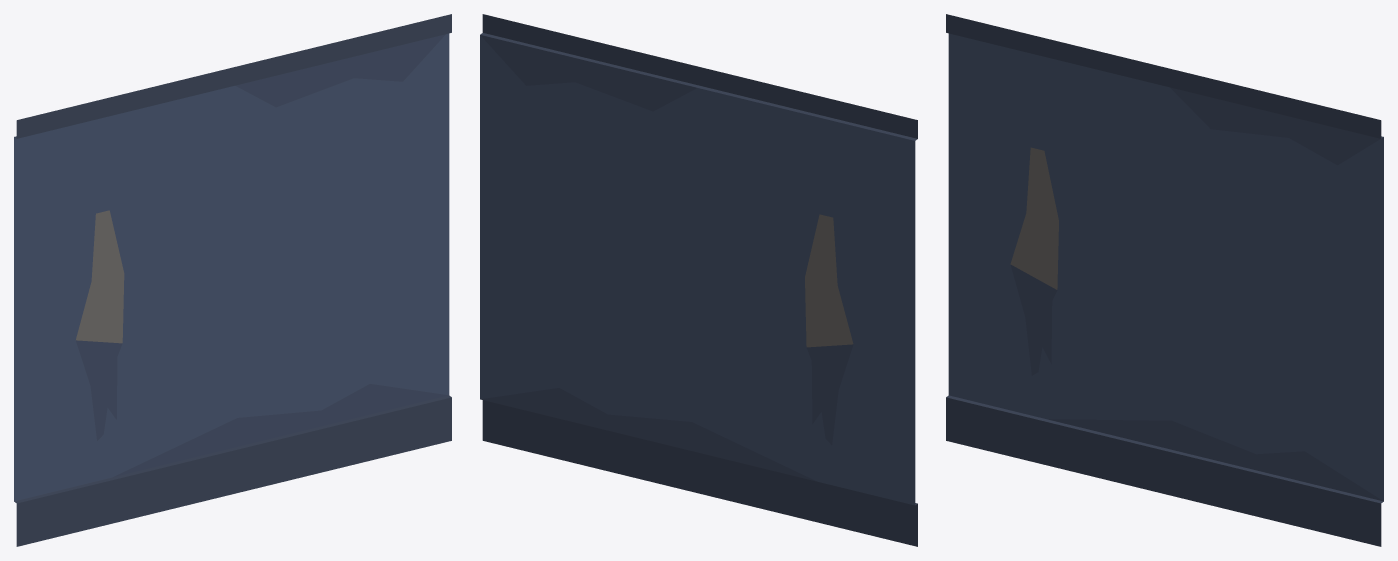
Rendered from AI_Env_Wall_Blue_TornWallpaper_02.fbx.
3 renders of one model, left to right at view 1: azimuth 30°, elevation 25°; view 2: azimuth 150°, elevation 25°; view 3: azimuth 330°, elevation 25°, orthographic.
Visible parts, largest first — view 1: AI_Env_Wall_Blue_TornWallpaper_02; view 2: AI_Env_Wall_Blue_TornWallpaper_02; view 3: AI_Env_Wall_Blue_TornWallpaper_02.
Boxes of the visible parts, bbox=[...] form: AI_Env_Wall_Blue_TornWallpaper_02: bbox=[14, 14, 451, 546]; AI_Env_Wall_Blue_TornWallpaper_02: bbox=[480, 14, 917, 546]; AI_Env_Wall_Blue_TornWallpaper_02: bbox=[946, 14, 1383, 546].
Size of the model in its own units: 5 by 4.69 by 0.0549.
